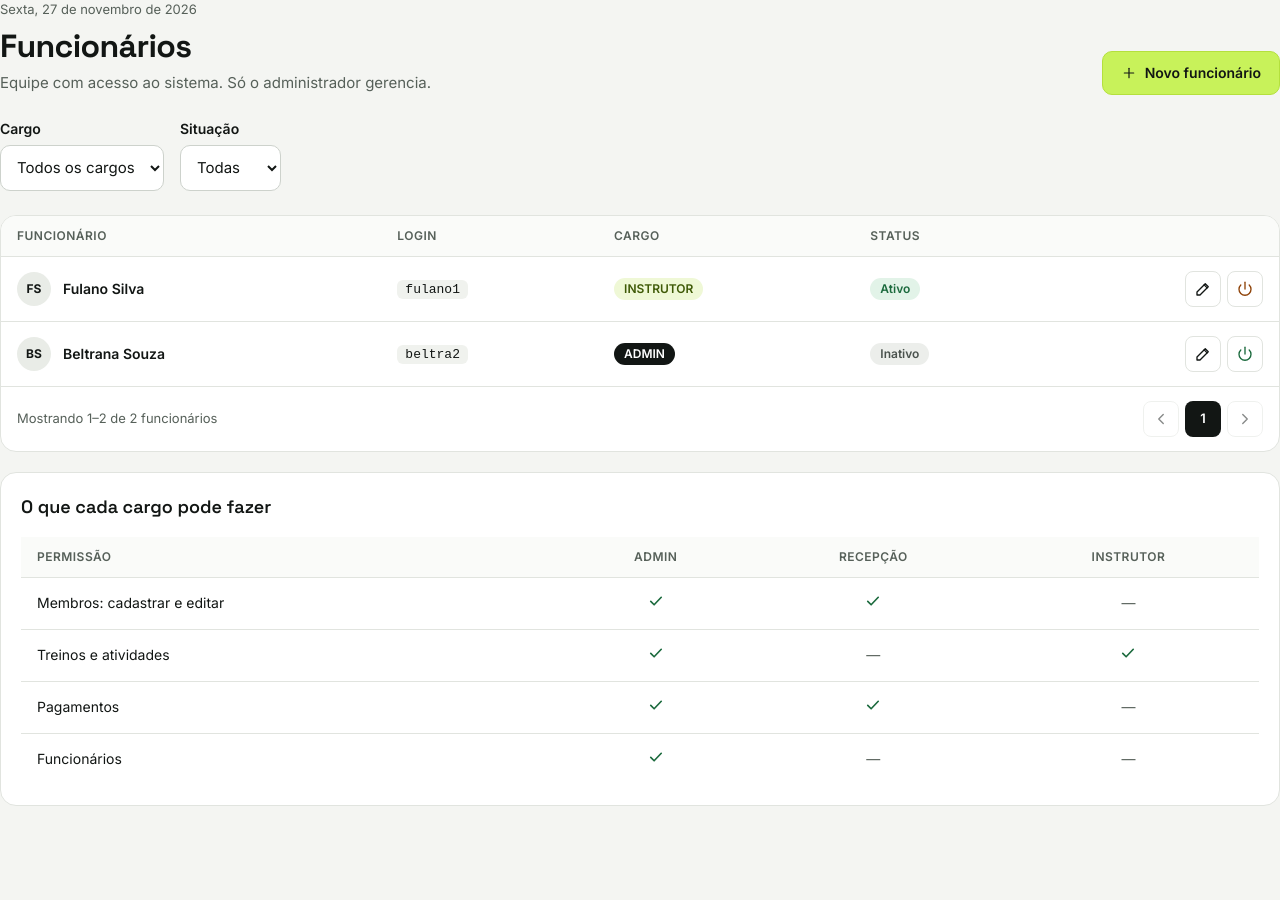
TelaFuncionarios › reativa uma linha inativa
Expected: the text "Beltrana Souza" is shown, [63,344,165,364]
What coordinates should you click on to do the following:
click the button named "Reativar Beltrana Souza"
I would click on:
 (1245, 354)
Its box is [1227,336,1263,372].
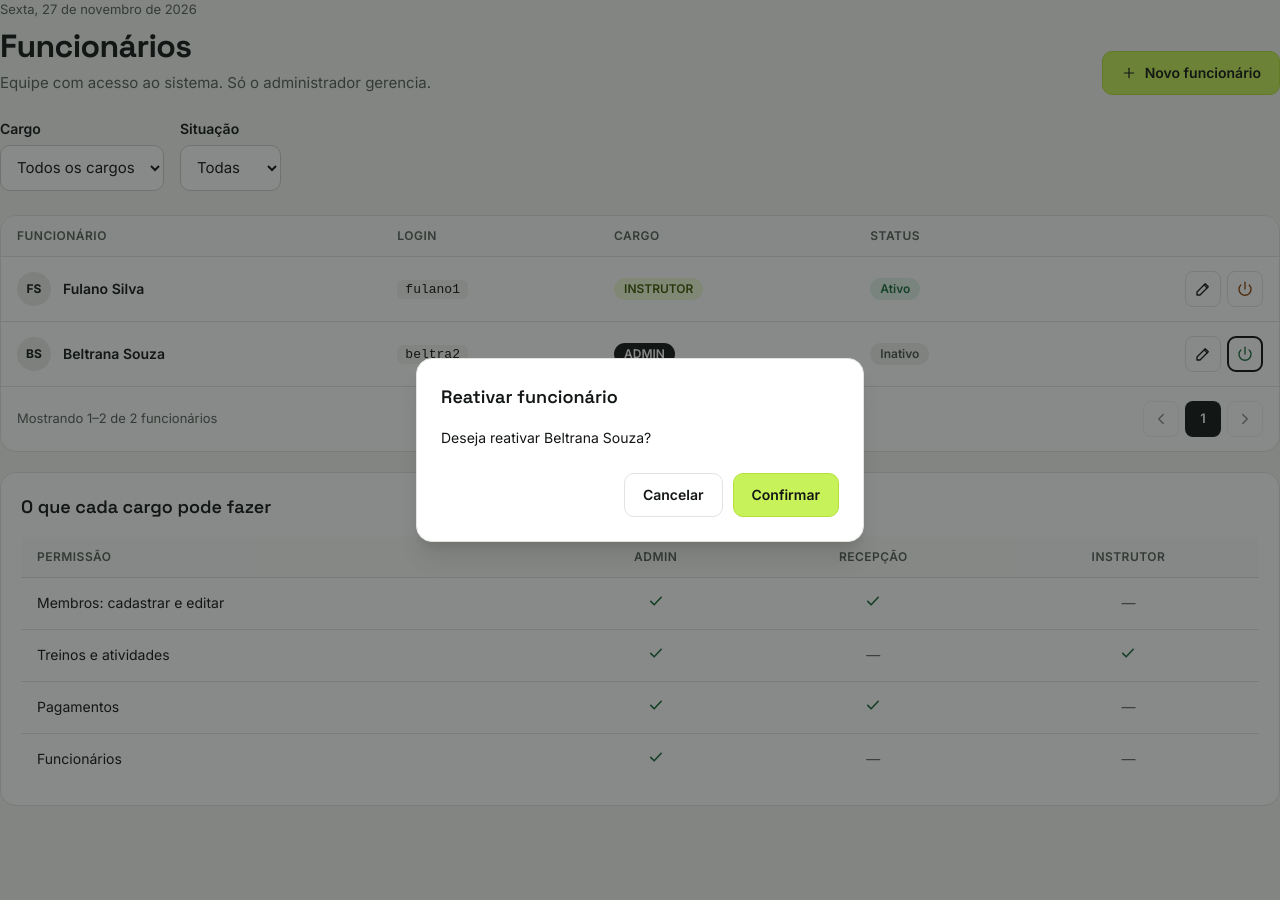
Expected: the dialog "Reativar funcionário" is shown, [416,358,864,542]
What coordinates should you click on to do the following:
click the button "Confirmar"
I would click on:
 (786, 495)
Its box is [732,473,839,517].
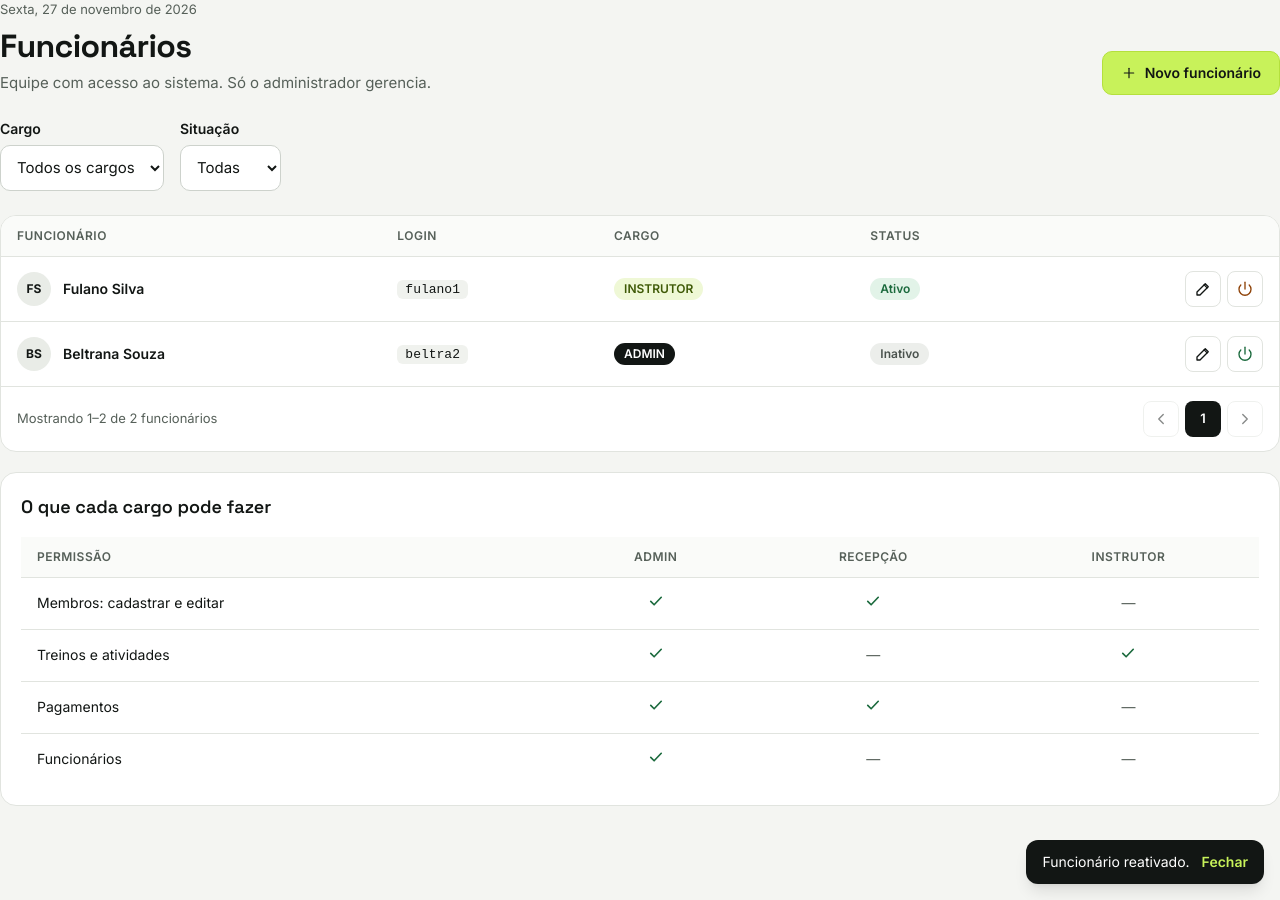
Expected: the text "Funcionário reativado." is shown, [1042,852,1190,872]
